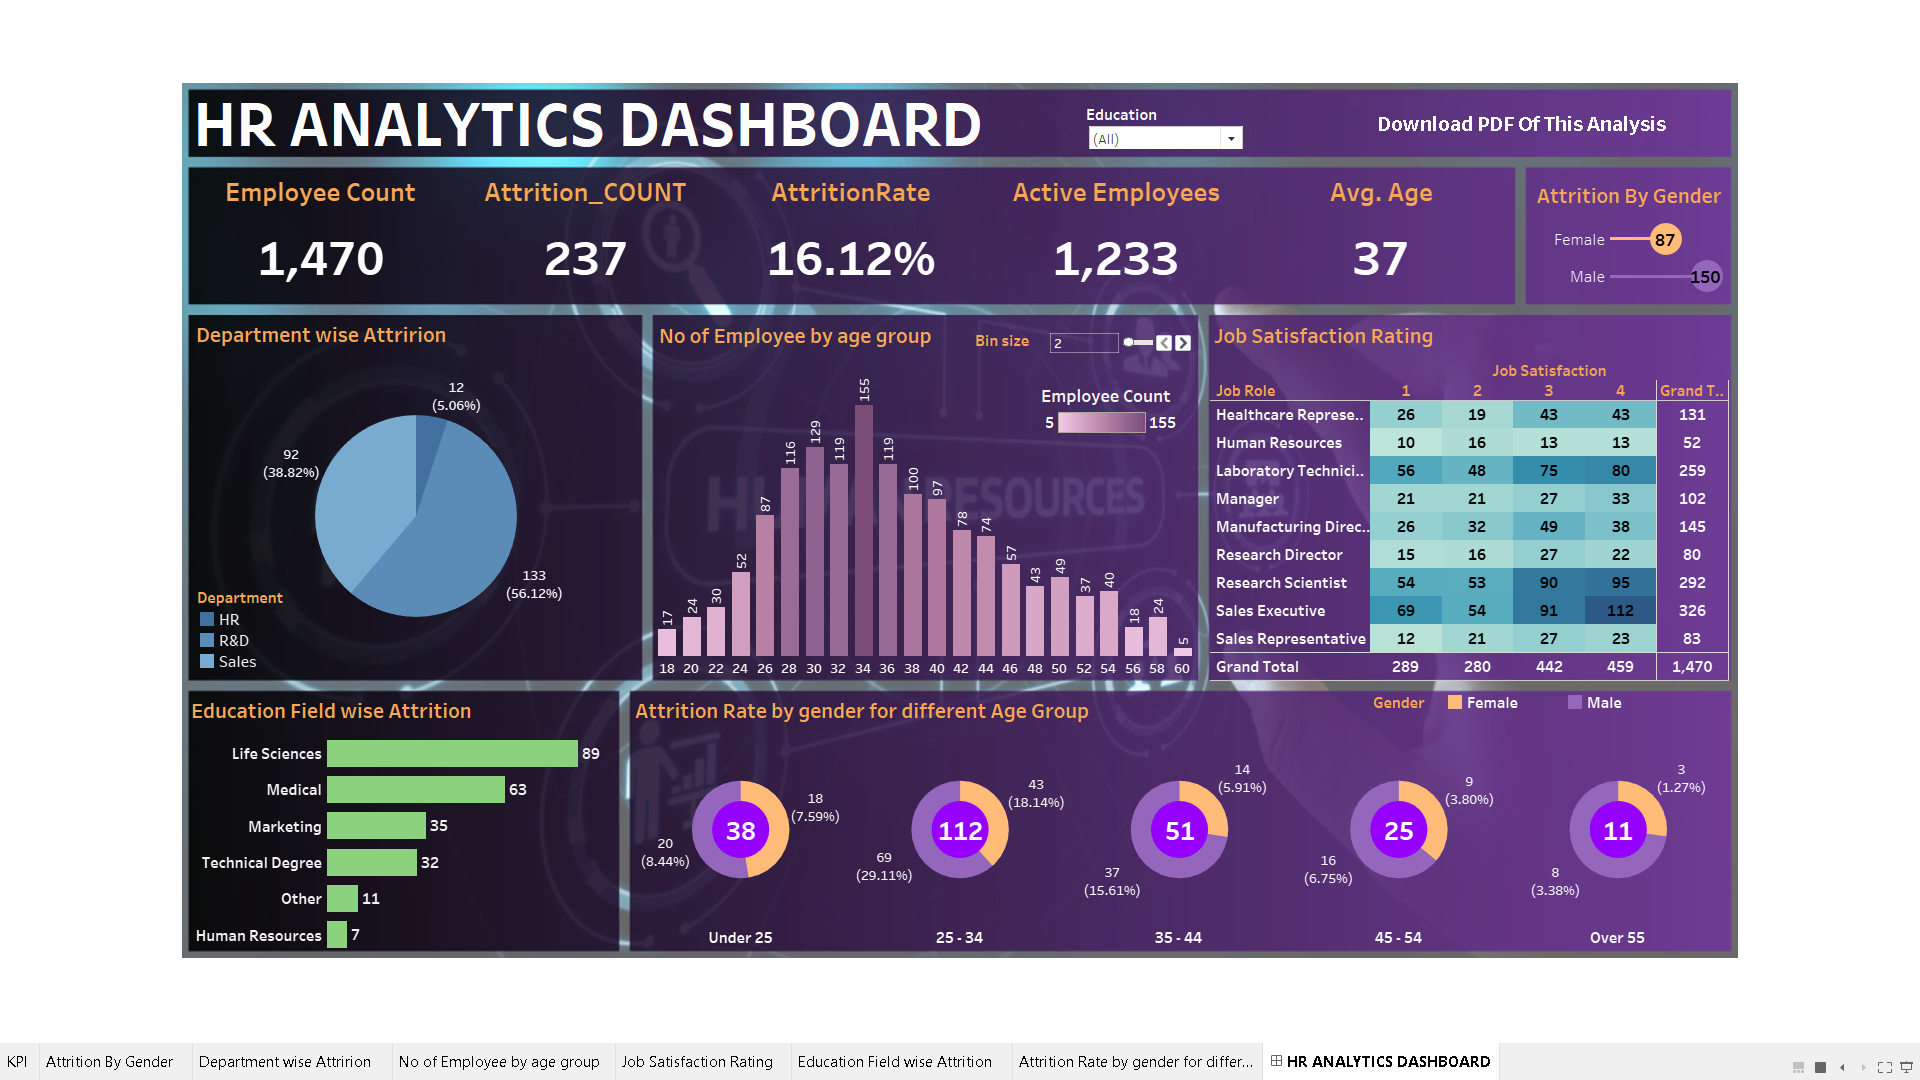

The page's visual inventory and layout, read from the dashboard file:
{"tool":"tableau","page":{"name":"HR ANALYTICS DASHBOARD","canvas":[1580,900],"ordinal":0},"visuals":[{"type":"image","param":"C:/Users/priya/Downloads/HR background.pptx.png","box":[8,8,1564,884]},{"type":"text","box":[20,17,905,66]},{"type":"dashboard-object","box":[1148,23,406,59]},{"type":"filter","title":"Department wise Attririon","param":"[federated.05x3r8x120fdu91fvuap70v38fok].[none:Education:nk]","box":[916,33,160,45]},{"type":"worksheet","title":"KPI","mark":"Automatic","box":[18,97,1326,136]},{"type":"worksheet","title":"Attrition By Gender","mark":"Automatic","rows":["Gender"],"cols":["Calculation_806144387336974336","Calculation_806144387336974336"],"box":[1360,106,198,118]},{"type":"worksheet","title":"Department wise Attririon","mark":"Pie","box":[22,245,448,357]},{"type":"worksheet","title":"No of Employee by age group","mark":"Automatic","rows":["Employee Count"],"cols":["Age (bin)"],"box":[485,246,540,361]},{"type":"worksheet","title":"Job Satisfaction Rating","mark":"Square","rows":["Job Role"],"cols":["Job Satisfaction"],"box":[1040,246,519,364]},{"type":"parameter","param":"[Parameters].[Parameter 1]","box":[805,259,219,34]},{"type":"legend","title":"No of Employee by age group","param":"[federated.05x3r8x120fdu91fvuap70v38fok].[sum:Employee Count:qk]","box":[871,312,140,88]},{"type":"legend","title":"Department wise Attririon","param":"[federated.05x3r8x120fdu91fvuap70v38fok].[none:Department:nk]","box":[27,516,99,85]},{"type":"worksheet","title":"Education Field wise Attrition","mark":"Automatic","rows":["Education Field"],"cols":["Calculation_806144387336974336"],"box":[17,621,431,261]},{"type":"worksheet","title":"Attrition Rate by gender for different Age Group","mark":"Pie","rows":["Calculation_650207250580795393","Calculation_650207250580795393"],"cols":["CF_age band"],"box":[461,621,1097,257]},{"type":"legend","title":"Attrition Rate by gender for different Age Group","param":"[federated.05x3r8x120fdu91fvuap70v38fok].[none:Gender:nk]","box":[1203,621,355,33]}]}

Visuals, with their boxes on the page's 1580x900 design canvas (x1, y1, x2, y2). These are canvas units, not pixel positions in the 1920x1080 screenshot, which may show the page scaled, cropped or inside an application window:
image: region(8, 8, 1572, 892)
text: region(20, 17, 925, 83)
dashboard-object: region(1148, 23, 1554, 82)
"Department wise Attririon" filter: region(916, 33, 1076, 78)
"KPI" worksheet: region(18, 97, 1344, 233)
"Attrition By Gender" worksheet: region(1360, 106, 1558, 224)
"Department wise Attririon" worksheet (Pie marks): region(22, 245, 470, 602)
"No of Employee by age group" worksheet: region(485, 246, 1025, 607)
"Job Satisfaction Rating" worksheet (Square marks): region(1040, 246, 1559, 610)
parameter: region(805, 259, 1024, 293)
"No of Employee by age group" legend: region(871, 312, 1011, 400)
"Department wise Attririon" legend: region(27, 516, 126, 601)
"Education Field wise Attrition" worksheet: region(17, 621, 448, 882)
"Attrition Rate by gender for different Age Group" worksheet (Pie marks): region(461, 621, 1558, 878)
"Attrition Rate by gender for different Age Group" legend: region(1203, 621, 1558, 654)
